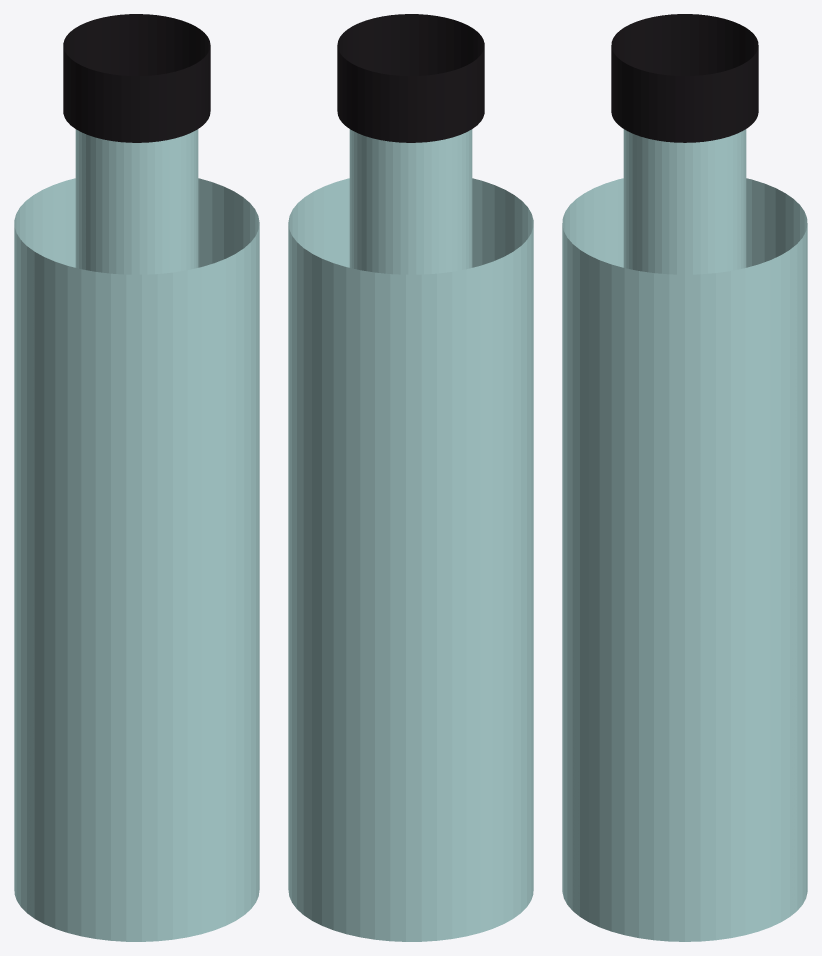
File: Empty_vial.glb
3 renders of one model, left to right at view 1: azimuth 30°, elevation 25°; view 2: azimuth 150°, elevation 25°; view 3: azimuth 270°, elevation 25°, orthographic.
Visible parts, largest first — view 1: empty_vial_with_cork_vial, empty_vial_with_cork_cork; view 2: empty_vial_with_cork_vial, empty_vial_with_cork_cork; view 3: empty_vial_with_cork_vial, empty_vial_with_cork_cork.
Boxes of the visible parts, bbox=[...] form: empty_vial_with_cork_vial: bbox=[14, 129, 259, 941]; empty_vial_with_cork_cork: bbox=[63, 14, 210, 142]; empty_vial_with_cork_vial: bbox=[288, 129, 533, 941]; empty_vial_with_cork_cork: bbox=[337, 14, 484, 142]; empty_vial_with_cork_vial: bbox=[562, 129, 807, 941]; empty_vial_with_cork_cork: bbox=[611, 14, 758, 142].
Bounding box in the file's own units: 9.99 × 38 × 9.99.
